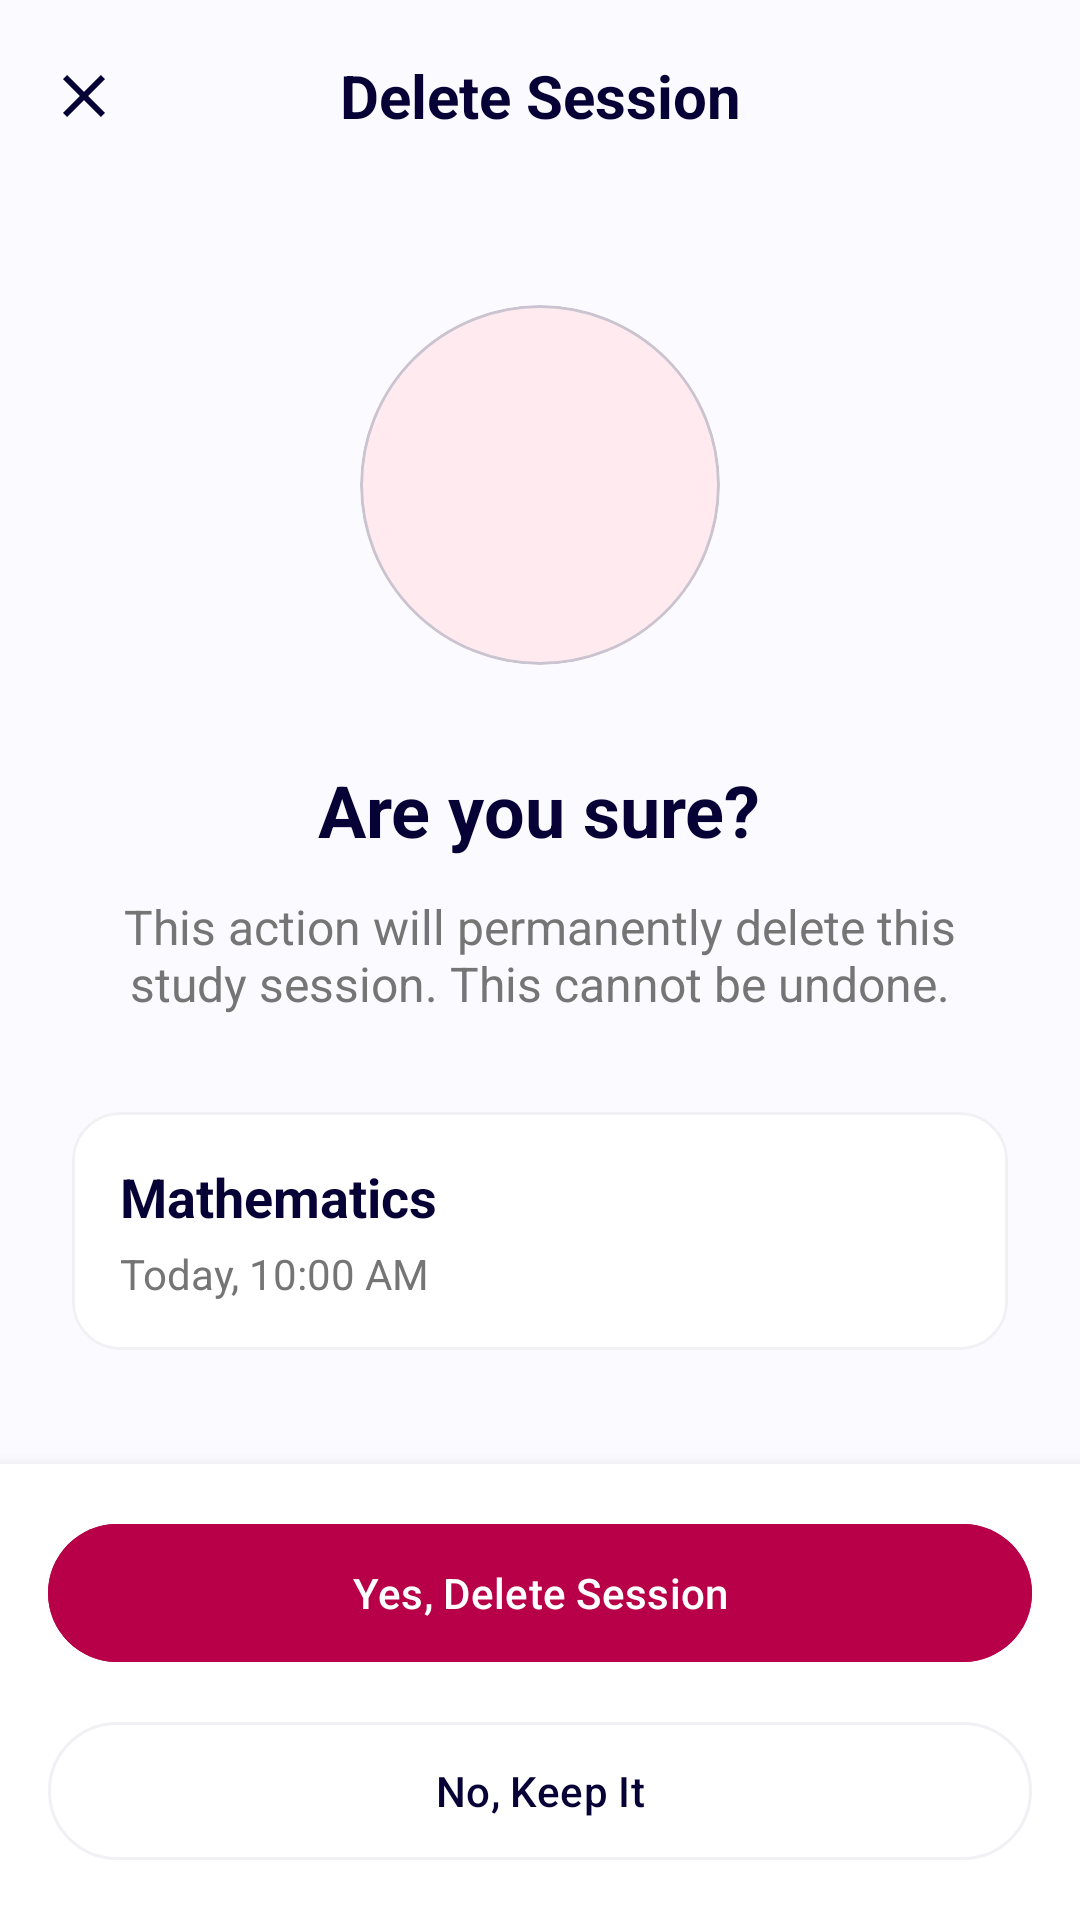

Where to tap for icons on this 1080*1920 app screen, as [x,y]:
close: [84,96]
